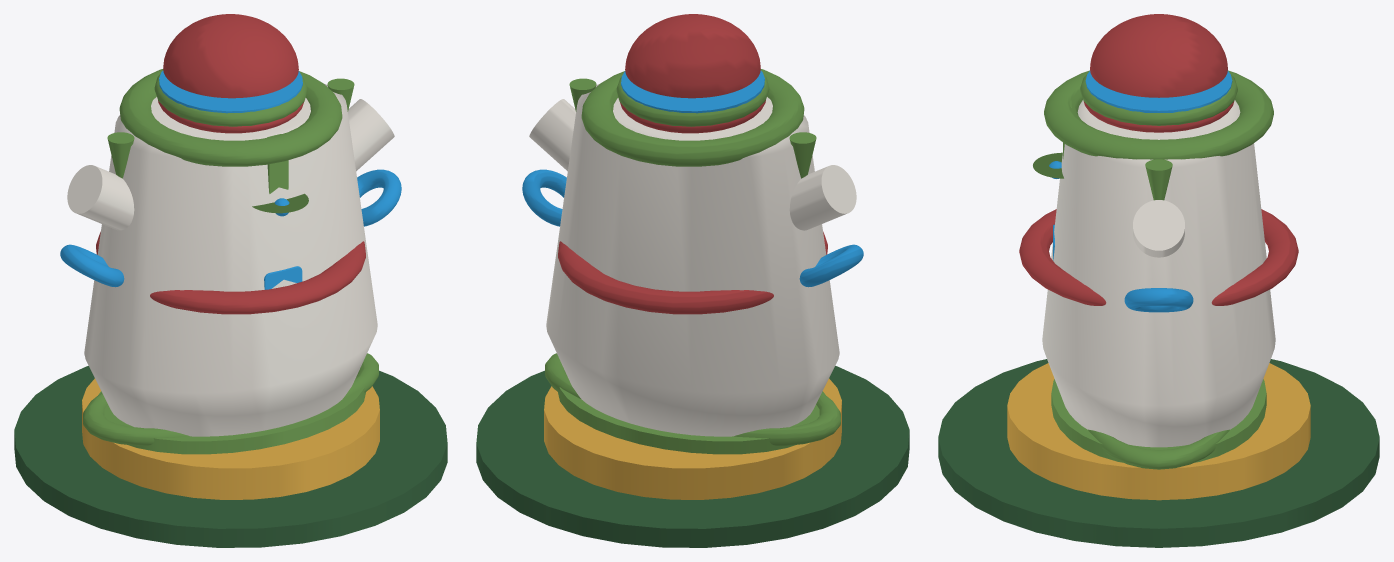
Rendered from 1198_唐图鉴_唐代女性服饰.glb.
3 renders of one model, left to right at view 1: azimuth 30°, elevation 25°; view 2: azimuth 150°, elevation 25°; view 3: azimuth 270°, elevation 25°, orthographic.
Visible parts, largest first — view 1: card_1198; view 2: card_1198; view 3: card_1198.
Boxes of the visible parts, bbox=[...] form: card_1198: bbox=[14, 14, 447, 547]; card_1198: bbox=[476, 14, 909, 547]; card_1198: bbox=[938, 14, 1379, 547].
Size of the model in its own units: 0.9029 by 1 by 0.9208.
